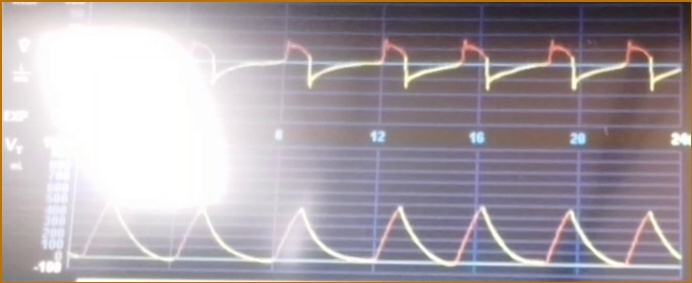Normal Flow: (187, 25, 681, 118)
Normal Volume: (71, 186, 681, 274)
